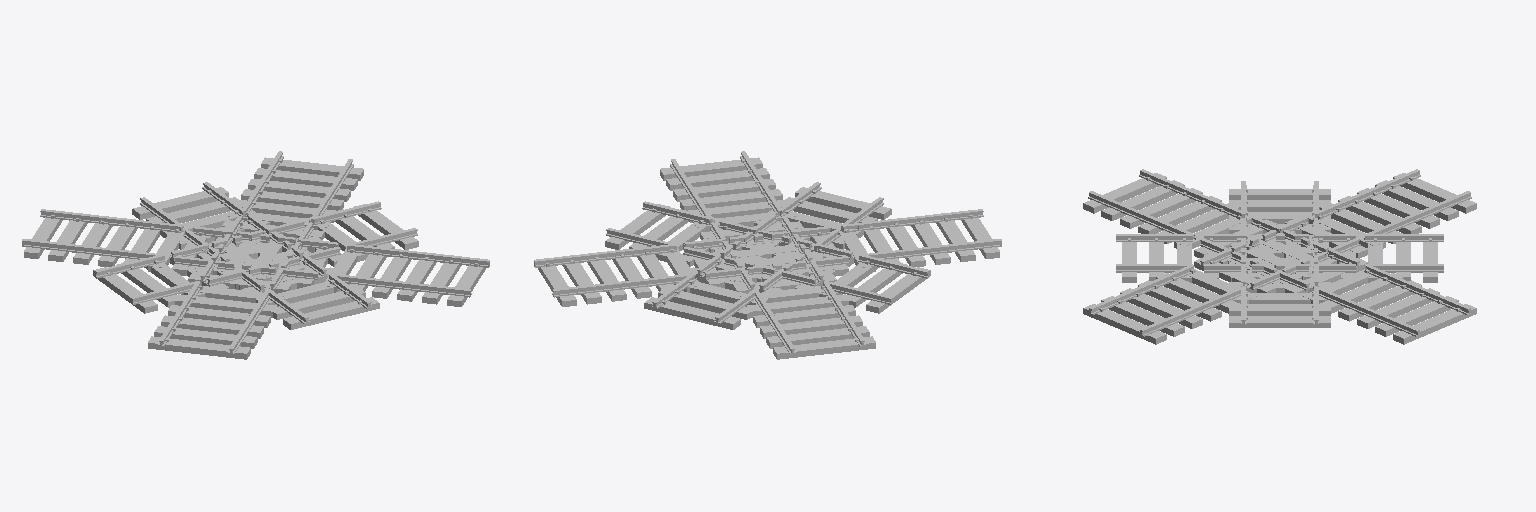
File: track_universal_crossing.obj
3 views of the same model, side by side, from view 1: azimuth 30°, elevation 25°; view 2: azimuth 150°, elevation 25°; view 3: azimuth 270°, elevation 25° (orthographic).
Parts seen in each view (by area): view 1: track_normal, track_normal.004, track_normal.017; view 2: track_normal, track_normal.004, track_normal.017; view 3: track_normal, track_normal.004, track_normal.017.
Part boxes in pixels (left/top/right/bottom): track_normal: left=22, top=182, right=489, bottom=329; track_normal.004: left=148, top=151, right=363, bottom=359; track_normal.017: left=93, top=201, right=418, bottom=313; track_normal: left=644, top=151, right=891, bottom=359; track_normal.004: left=534, top=209, right=1001, bottom=306; track_normal.017: left=605, top=201, right=930, bottom=313; track_normal: left=1083, top=169, right=1476, bottom=344; track_normal.004: left=1083, top=169, right=1476, bottom=344; track_normal.017: left=1229, top=181, right=1330, bottom=327.
Size of the model in its own units: 3.59 by 0.1188 by 3.59.